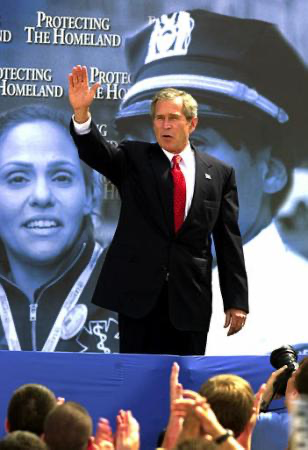Face: (0, 138, 100, 263), (149, 96, 198, 155)
